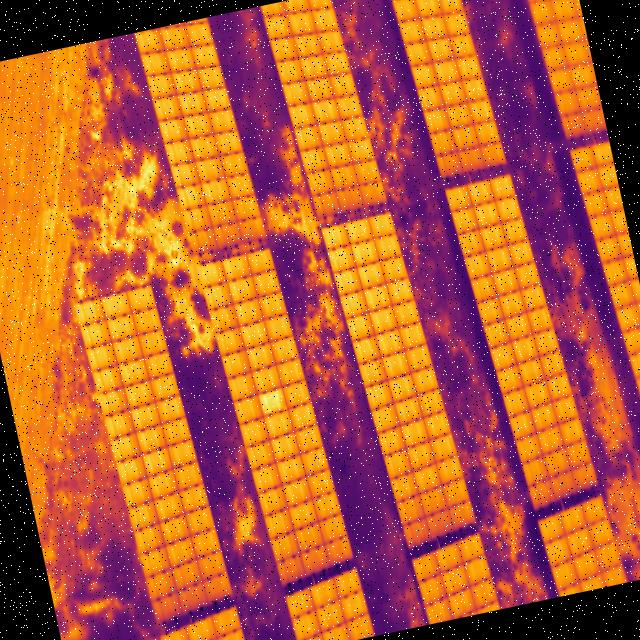Hotspot: (256, 385, 288, 418)
